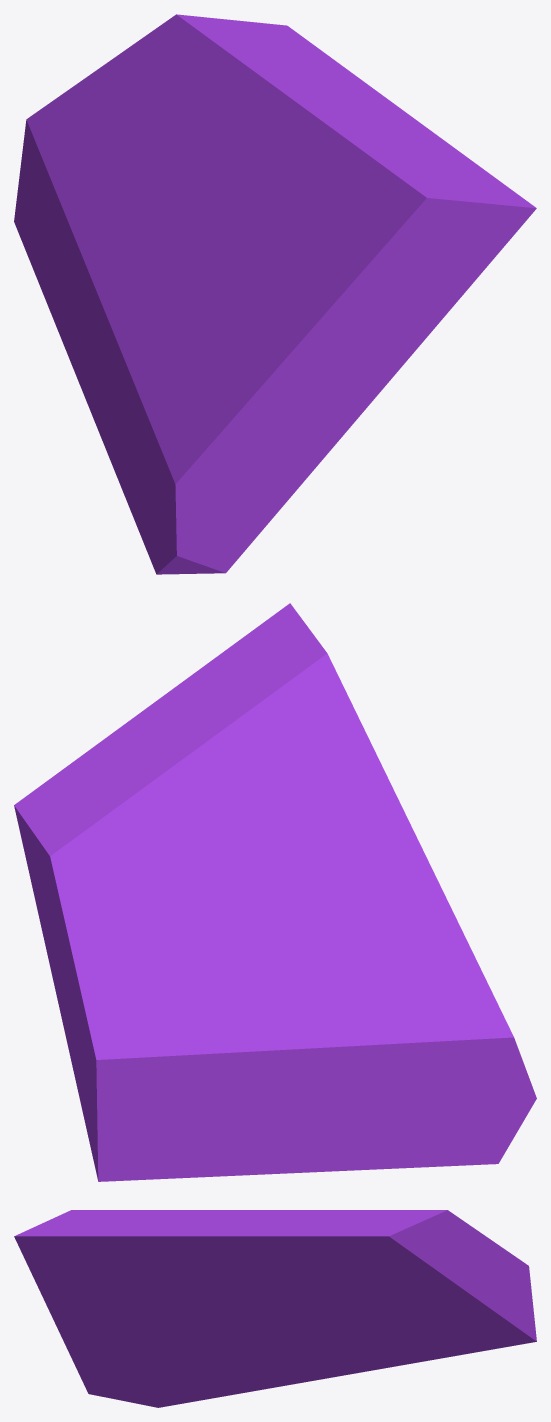
The model's file is Window_117_3_chunks.fbx.
3 views of the same model, one above another, from view 1: azimuth 30°, elevation 25°; view 2: azimuth 150°, elevation 25°; view 3: azimuth 270°, elevation 25° (orthographic). The views are drawn at different scales.
Visible parts, largest first — view 1: Window_117_3_1, Window_117_3_0, Window_117_3_4, Window_117_3_3, Window_117_3_5, Window_117_3_2, Window_117_3_9, Window_117_3_6; view 2: Window_117_3_0, Window_117_3_1, Window_117_3_3, Window_117_3_5, Window_117_3_4, Window_117_3_2, Window_117_3_9, Window_117_3_6; view 3: Window_117_3_0, Window_117_3_1, Window_117_3_9, Window_117_3_7, Window_117_3_6, Window_117_3_5, Window_117_3_4, Window_117_3_8.
Part boxes in pixels (left/top/right/bottom): Window_117_3_1: left=108, top=305, right=442, bottom=574; Window_117_3_0: left=14, top=14, right=226, bottom=453; Window_117_3_4: left=287, top=178, right=536, bottom=324; Window_117_3_3: left=179, top=59, right=301, bottom=320; Window_117_3_5: left=217, top=45, right=483, bottom=189; Window_117_3_2: left=264, top=124, right=375, bottom=283; Window_117_3_9: left=289, top=68, right=535, bottom=207; Window_117_3_6: left=221, top=19, right=344, bottom=80; Window_117_3_0: left=31, top=821, right=376, bottom=1181; Window_117_3_1: left=338, top=823, right=536, bottom=1169; Window_117_3_3: left=110, top=802, right=394, bottom=963; Window_117_3_5: left=96, top=639, right=300, bottom=828; Window_117_3_4: left=258, top=603, right=409, bottom=852; Window_117_3_2: left=192, top=706, right=363, bottom=823; Window_117_3_9: left=78, top=604, right=288, bottom=774; Window_117_3_6: left=14, top=758, right=136, bottom=879; Window_117_3_0: left=255, top=1210, right=536, bottom=1385; Window_117_3_1: left=37, top=1284, right=286, bottom=1407; Window_117_3_9: left=14, top=1216, right=303, bottom=1266; Window_117_3_7: left=37, top=1265, right=297, bottom=1327; Window_117_3_6: left=272, top=1210, right=420, bottom=1299; Window_117_3_5: left=76, top=1210, right=383, bottom=1231; Window_117_3_4: left=14, top=1210, right=111, bottom=1286; Window_117_3_8: left=289, top=1289, right=319, bottom=1312.
Bounding box in the file's own units: 357 × 429 × 738.
